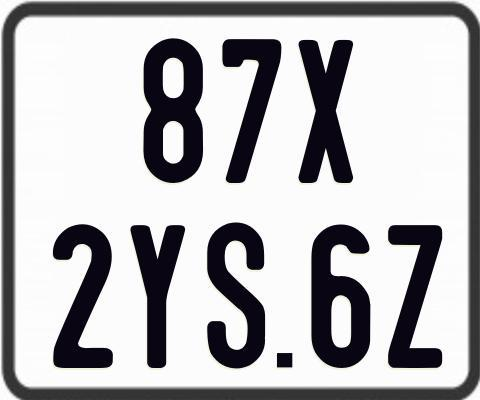2: (50, 221, 111, 370)
6: (309, 222, 373, 368)
7: (221, 37, 281, 183)
8: (143, 35, 205, 180)
S: (205, 222, 266, 374)
X: (299, 39, 357, 186)
Y: (129, 222, 185, 371)
Z: (388, 225, 443, 374)
